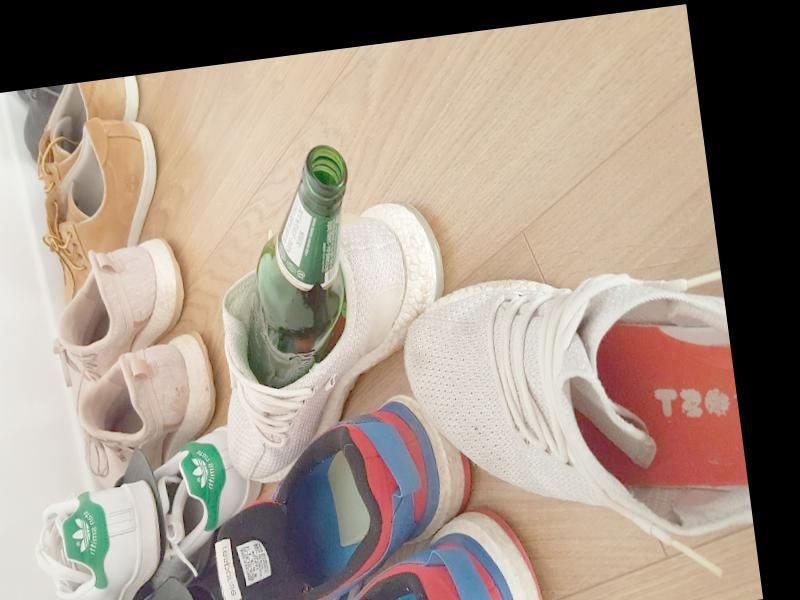Beer: (217, 142, 373, 393)
